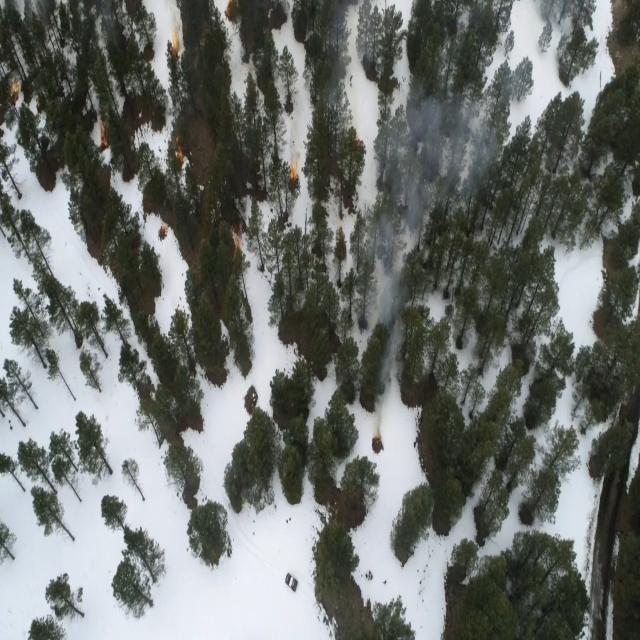Fire: (168, 28, 184, 62), (288, 156, 304, 186), (99, 122, 115, 152), (8, 80, 22, 100)
Smoke: (378, 111, 496, 222), (366, 216, 412, 454)
